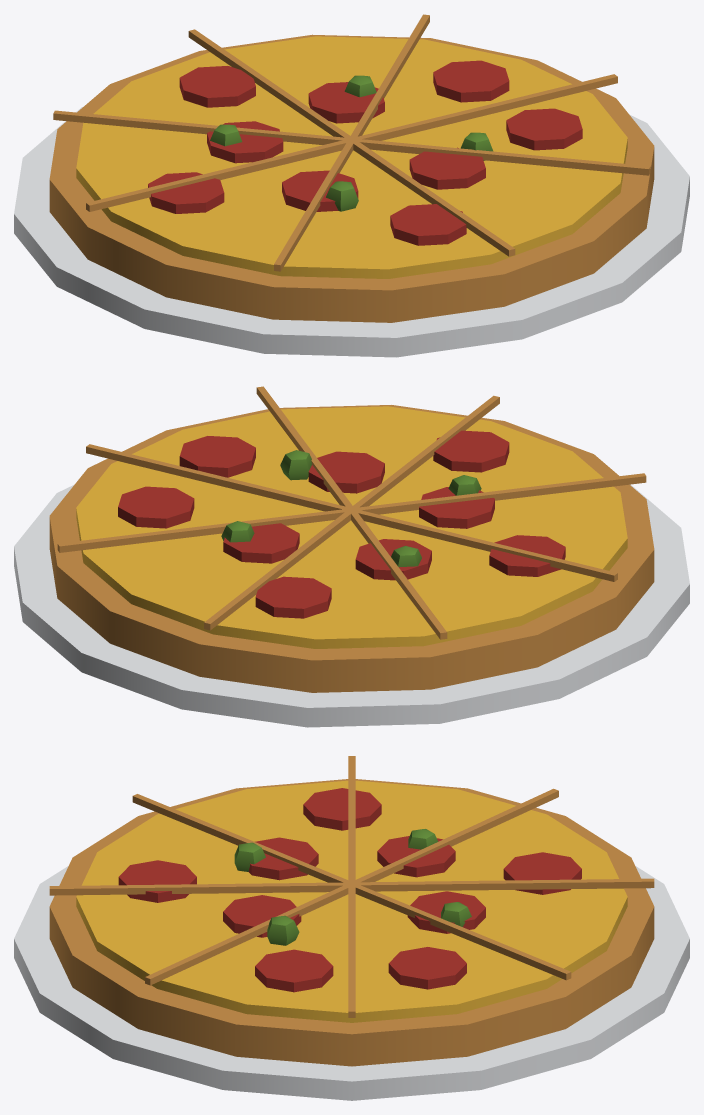
Rendered from tableware_pizza_meal.glb.
3 renders of one model, top to bottom at view 1: azimuth 30°, elevation 25°; view 2: azimuth 150°, elevation 25°; view 3: azimuth 270°, elevation 25°, orthographic.
Visible parts, largest first — view 1: tableware_pizza_meal; view 2: tableware_pizza_meal; view 3: tableware_pizza_meal.
Boxes of the visible parts, left/top/right/bottom form: tableware_pizza_meal: left=14, top=14, right=689, bottom=357; tableware_pizza_meal: left=14, top=386, right=689, bottom=727; tableware_pizza_meal: left=14, top=756, right=689, bottom=1100.
Bounding box in the file's own units: 0.38 × 0.053 × 0.38.
